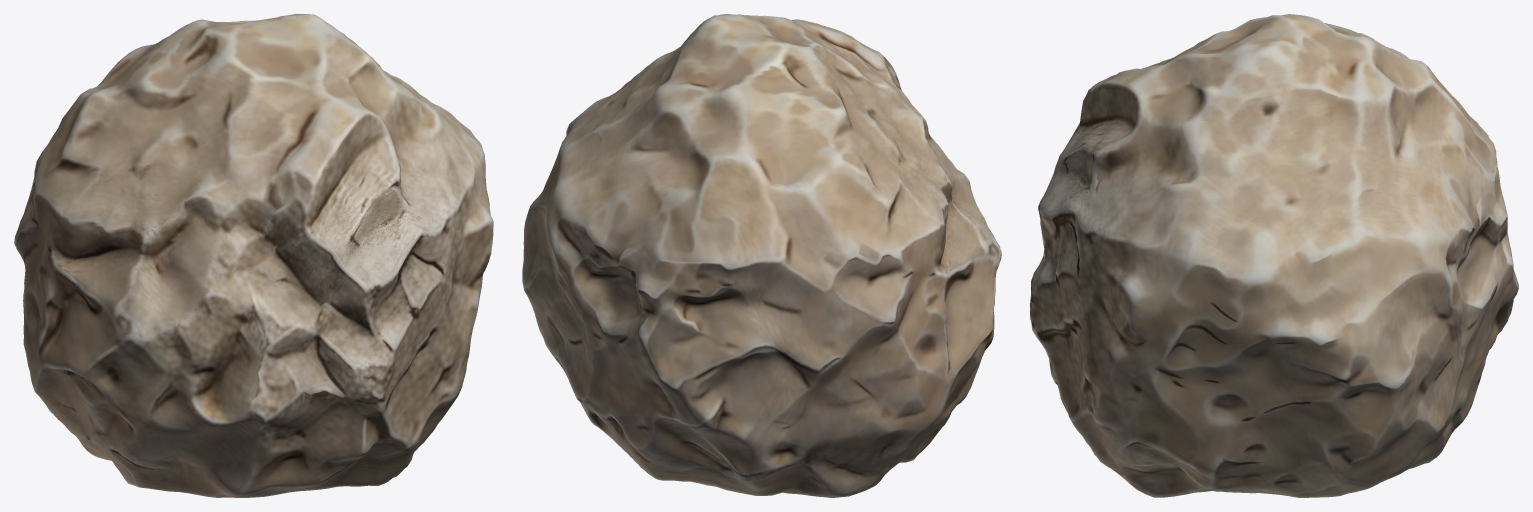
Rendered from asteroid_3.glb.
3 views of the same model, side by side, from view 1: azimuth 30°, elevation 25°; view 2: azimuth 150°, elevation 25°; view 3: azimuth 270°, elevation 25° (orthographic). The views are drawn at different scales.
Bounding box in the file's own units: 2 × 1.95 × 1.97.
1 material, 1 textured.
